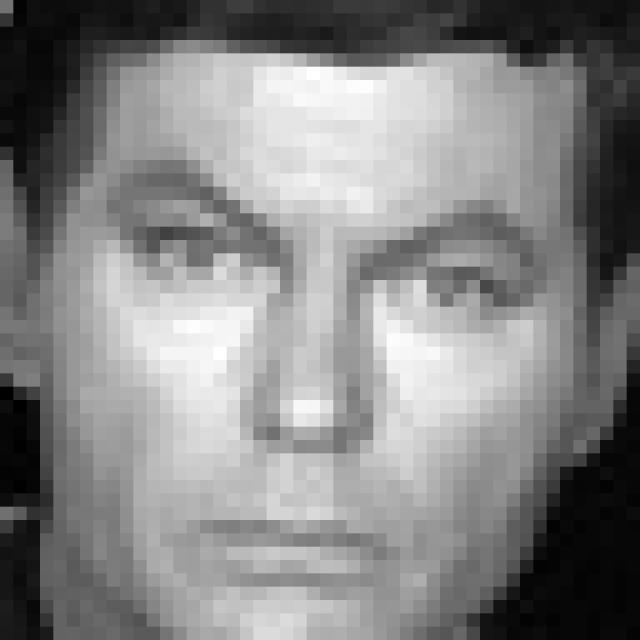neutral: (103, 147, 560, 596)
